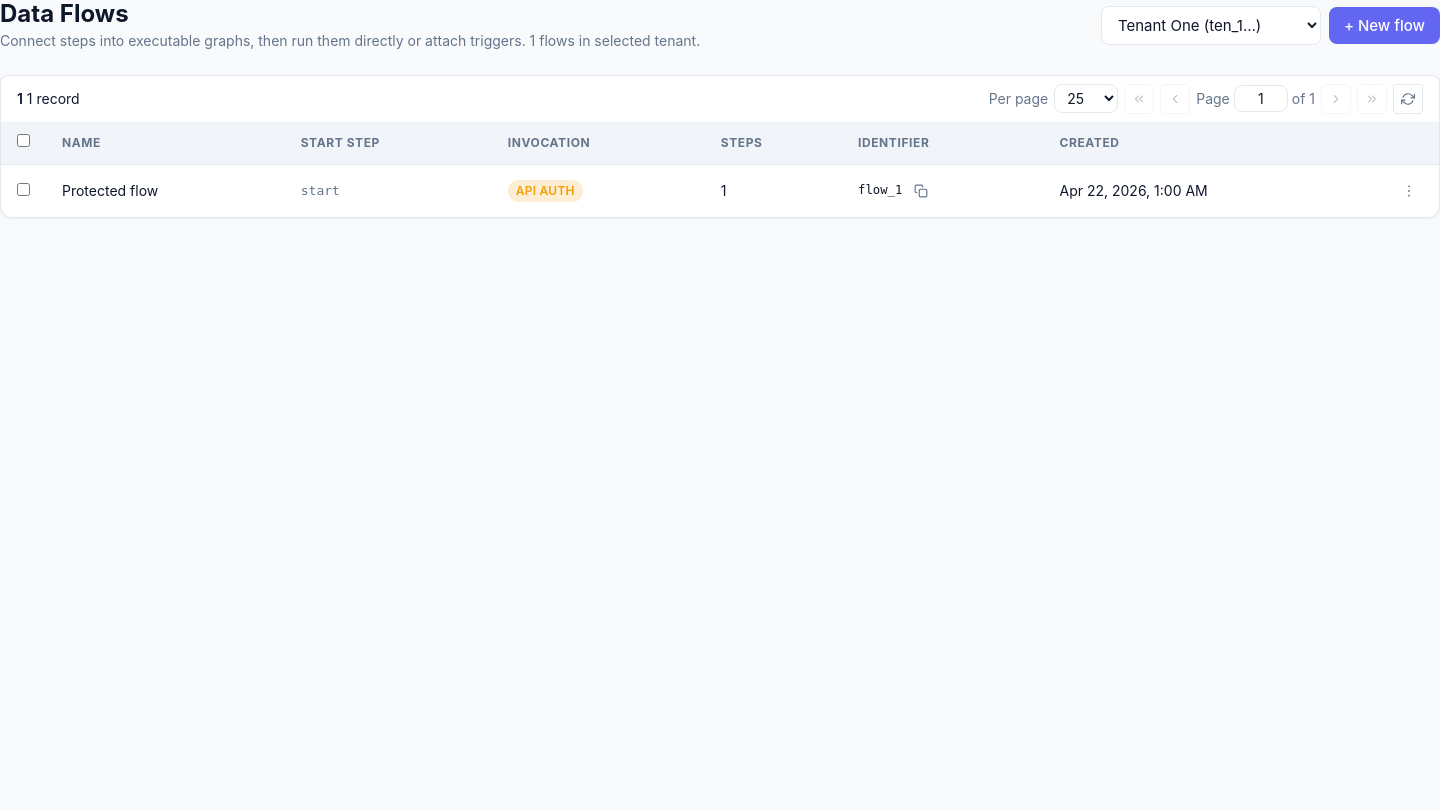
Test: new flow modal shows a placeholder cURL example before save
Expected: the text "Protected flow" is shown, [46, 164, 285, 217]
Step 1. Click the button "+ New flow" → [1384, 25], box [1329, 7, 1439, 44]
(page scrolled)
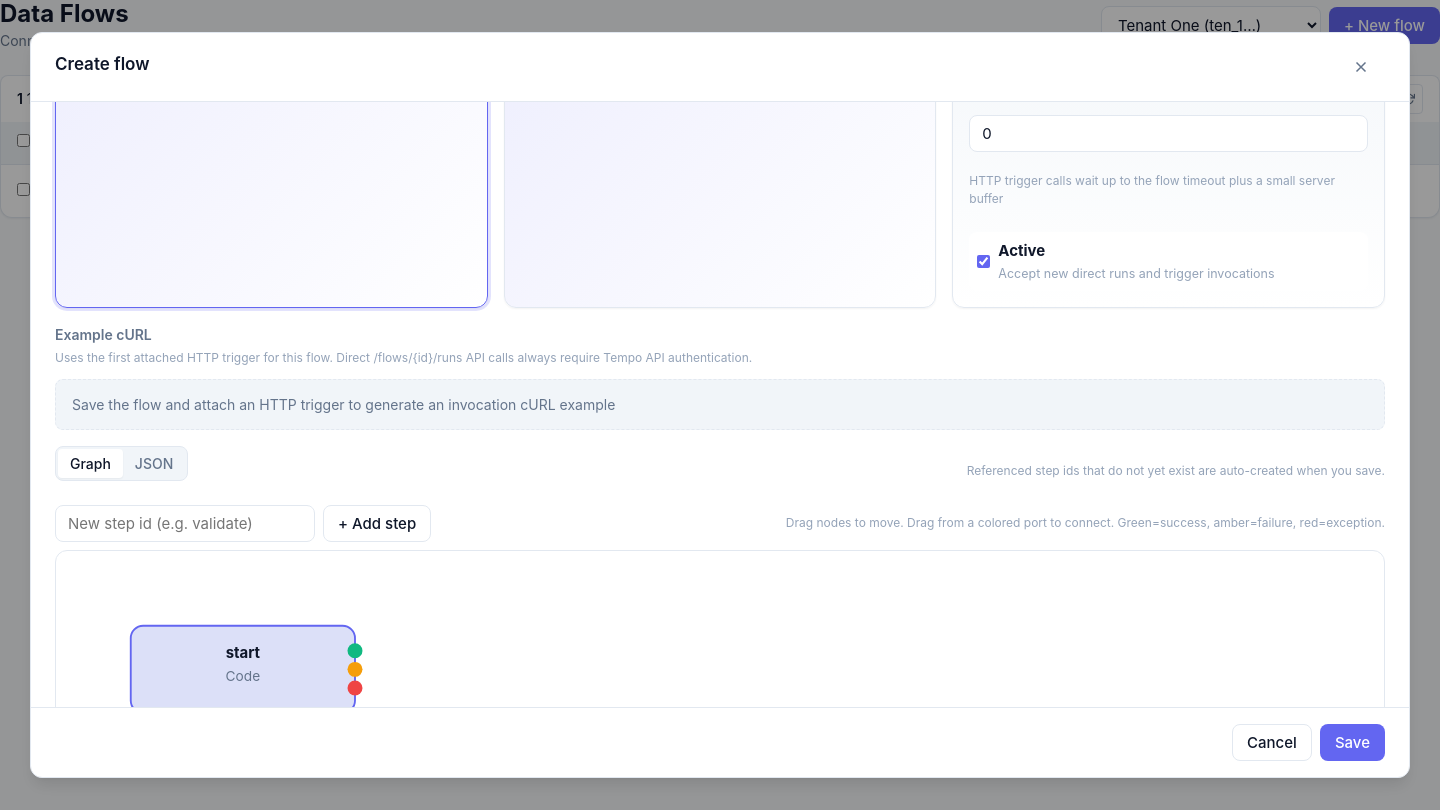
Expected: the text "Example cURL" is shown, [55, 326, 152, 343]
Expected: the text "Save the flow and attach an HTTP trigger" is shown, [72, 396, 615, 413]
